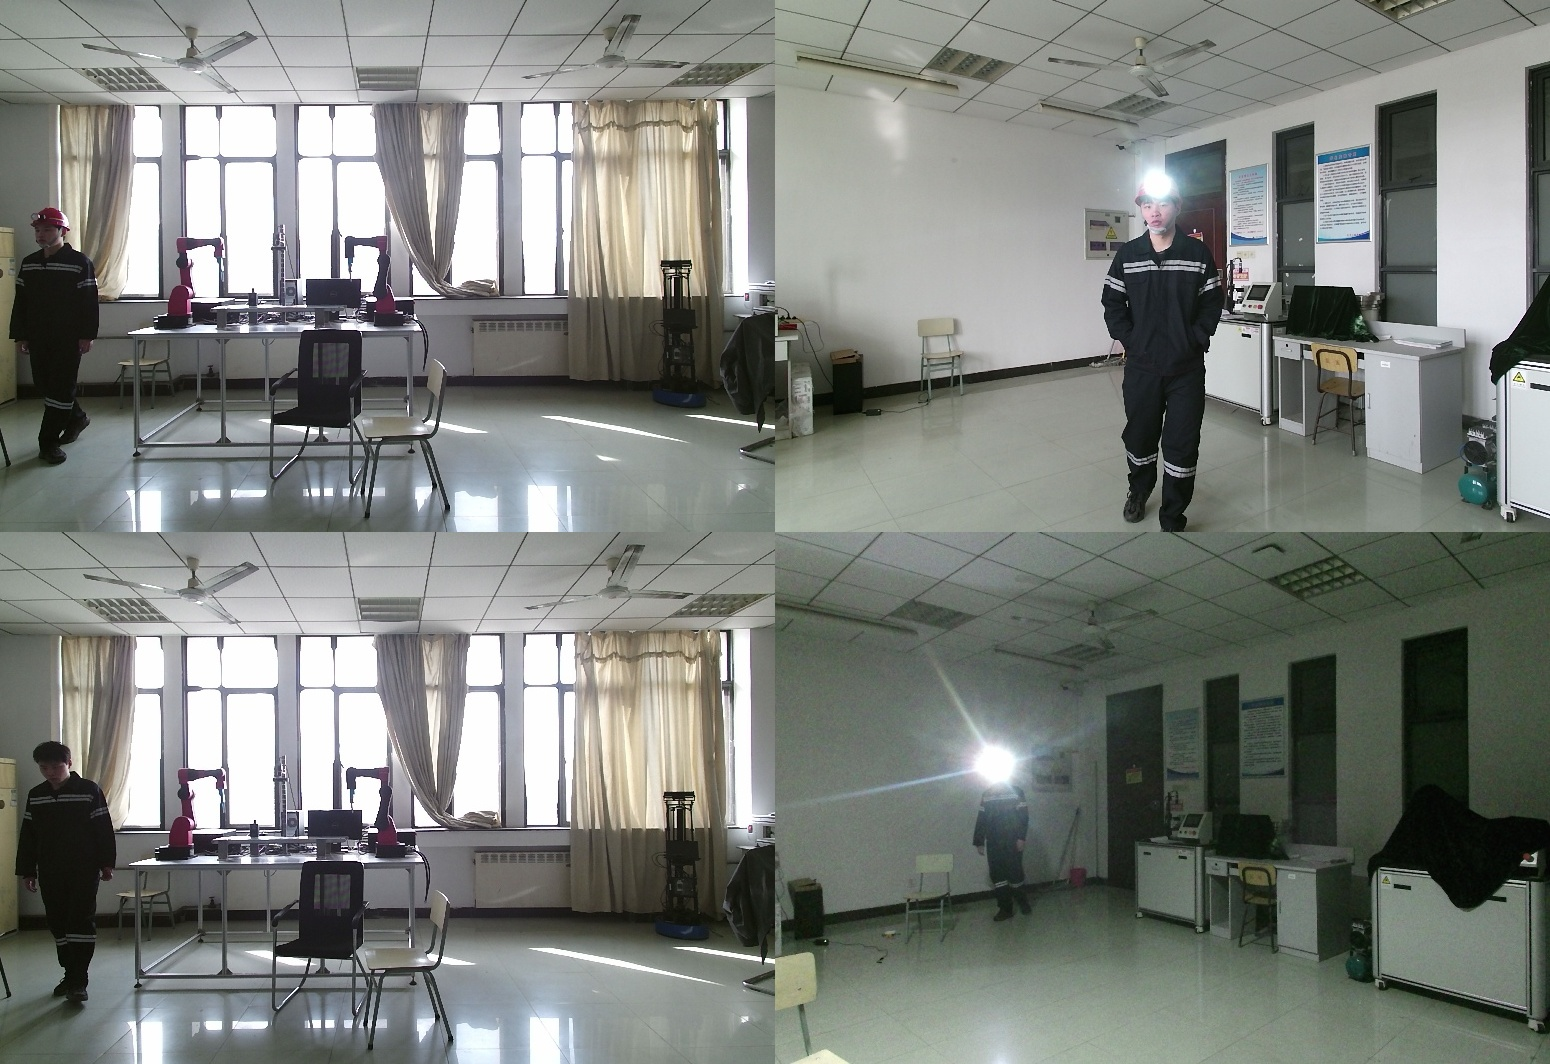person: (1096, 175, 1230, 532), (16, 741, 120, 997), (9, 209, 105, 465), (972, 761, 1034, 930)
